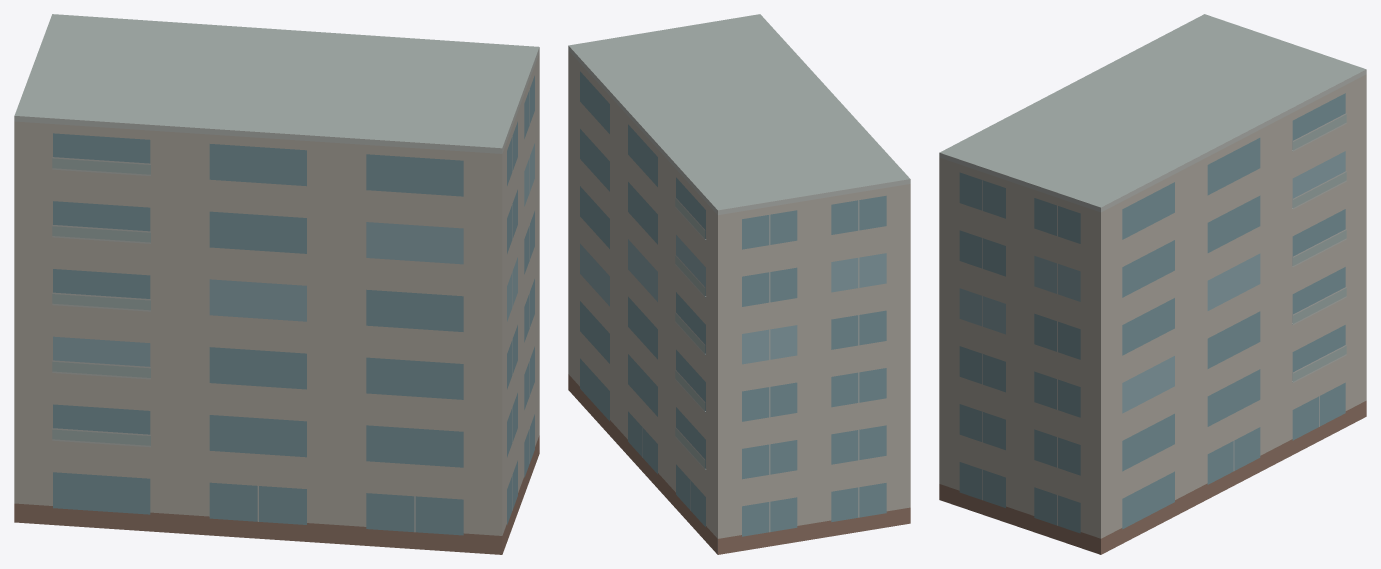
The model's file is survey-upis-32670776.glb.
The picture shows the model from 3 angles, left to right: view 1: azimuth 30°, elevation 25°; view 2: azimuth 150°, elevation 25°; view 3: azimuth 270°, elevation 25°; orthographic projection. The views are drawn at different scales.
Visible parts, largest first — view 1: survey-upis-32670776.tmp; view 2: survey-upis-32670776.tmp; view 3: survey-upis-32670776.tmp.
Boxes of the visible parts, x1,y1,x2,y2 form: survey-upis-32670776.tmp: (14, 14, 539, 554); survey-upis-32670776.tmp: (568, 14, 910, 554); survey-upis-32670776.tmp: (939, 14, 1366, 554).
Bounding box in the file's own units: 20.81 × 17.4 × 19.4.
